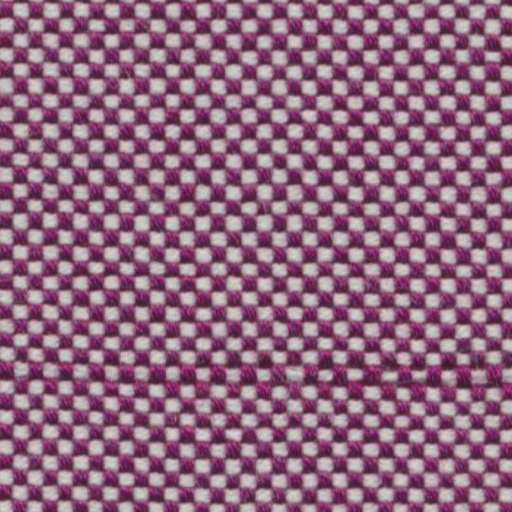TuoSha: (8, 339, 500, 418)
